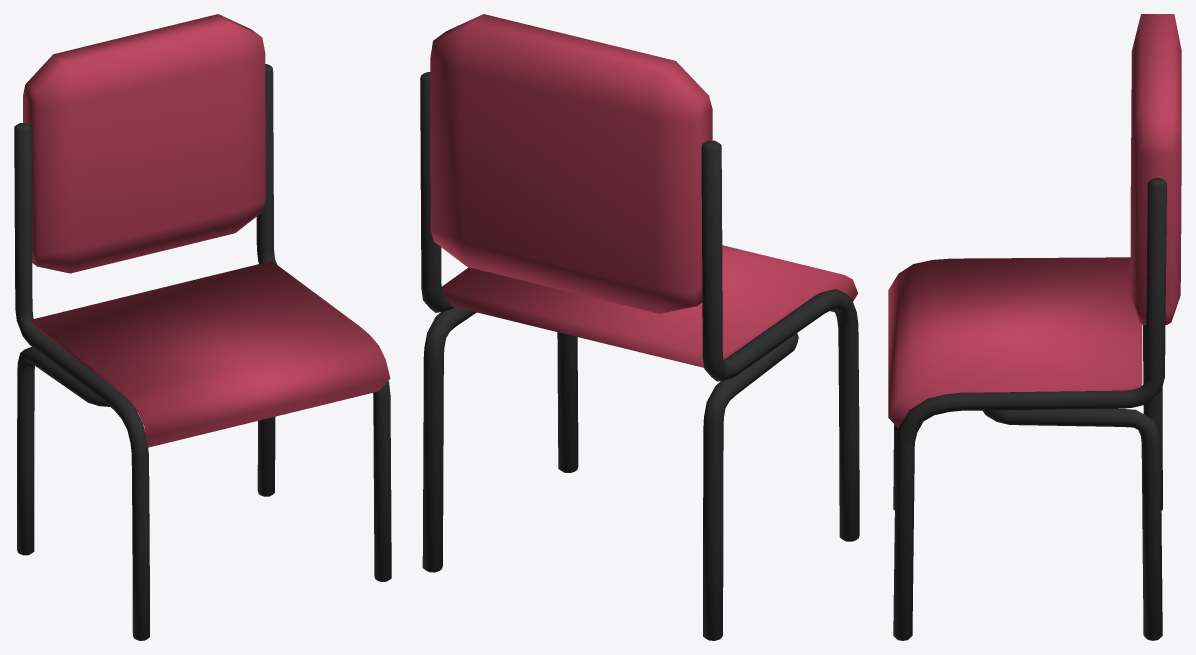
File: Chair.fbx
The picture shows the model from 3 angles, left to right: view 1: azimuth 30°, elevation 25°; view 2: azimuth 150°, elevation 25°; view 3: azimuth 270°, elevation 25°; orthographic projection. The views are drawn at different scales.
Parts seen in each view (by area): view 1: Keller_stuhl.006; view 2: Keller_stuhl.006; view 3: Keller_stuhl.006.
Boxes of the visible parts, box(x1,y1,x2,y2) form: Keller_stuhl.006: box(14, 14, 391, 640); Keller_stuhl.006: box(420, 14, 859, 640); Keller_stuhl.006: box(888, 14, 1181, 640).
Bounding box in the file's own units: 101 × 181 × 92.99.
